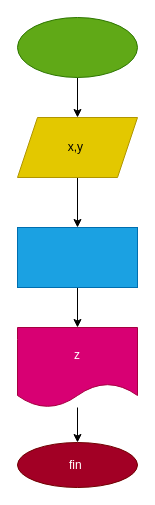
Image size: 155x505. Some labels were removed from this diagram. Here are the shapes that lost their labels. From the top down, the centre of each, then its label:
At point (77, 47): "inicio".
At point (77, 257): "z= x ** y".
